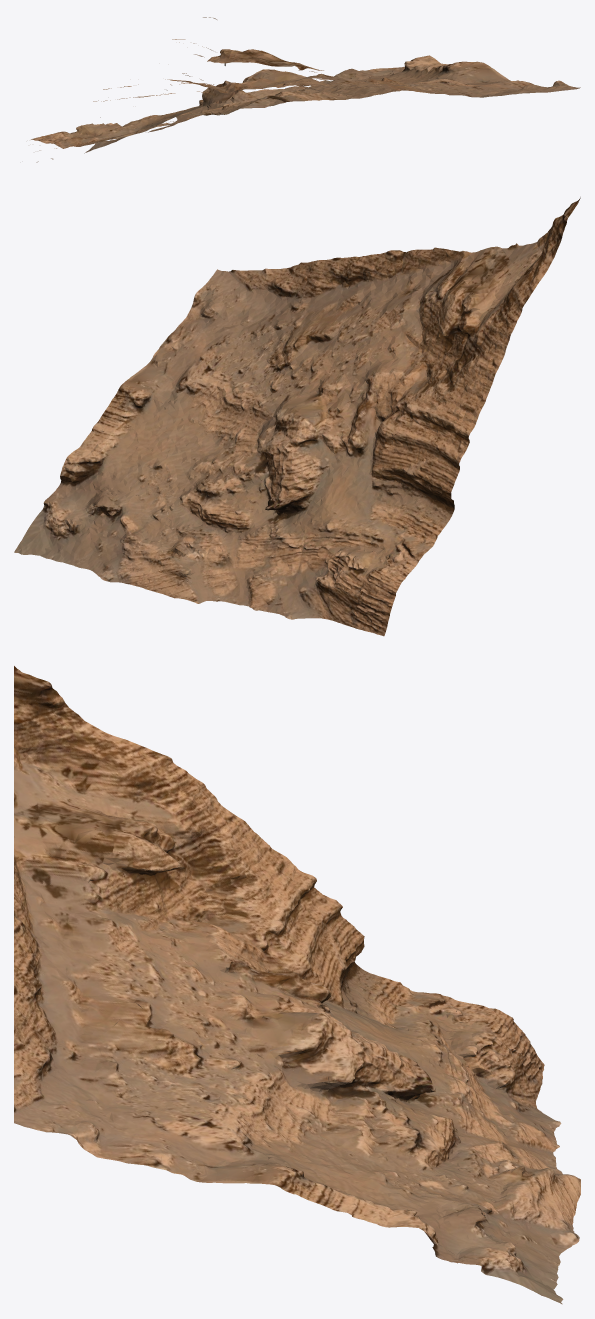
3 views of the same model, one above another, from view 1: azimuth 30°, elevation 25°; view 2: azimuth 150°, elevation 25°; view 3: azimuth 270°, elevation 25° (orthographic). The views are drawn at different scales.
Bounding box in the file's own units: 4.18 × 3.25 × 4.18.
3 materials, 3 textured.
